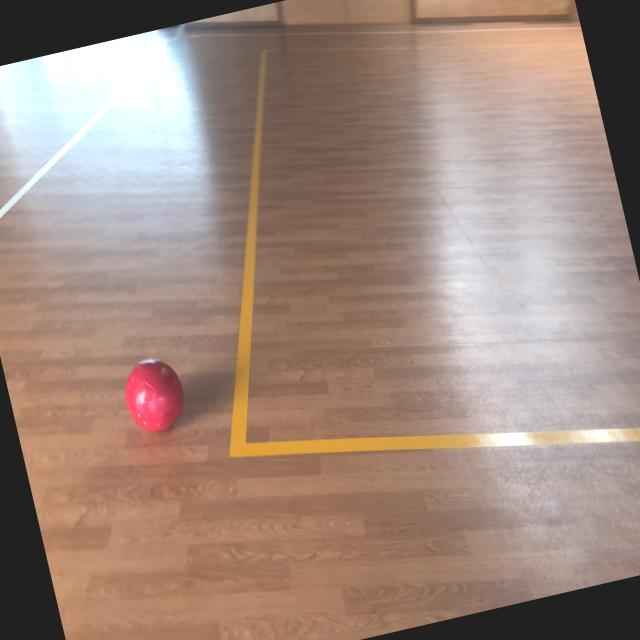red_ball: (118, 352, 190, 436)
